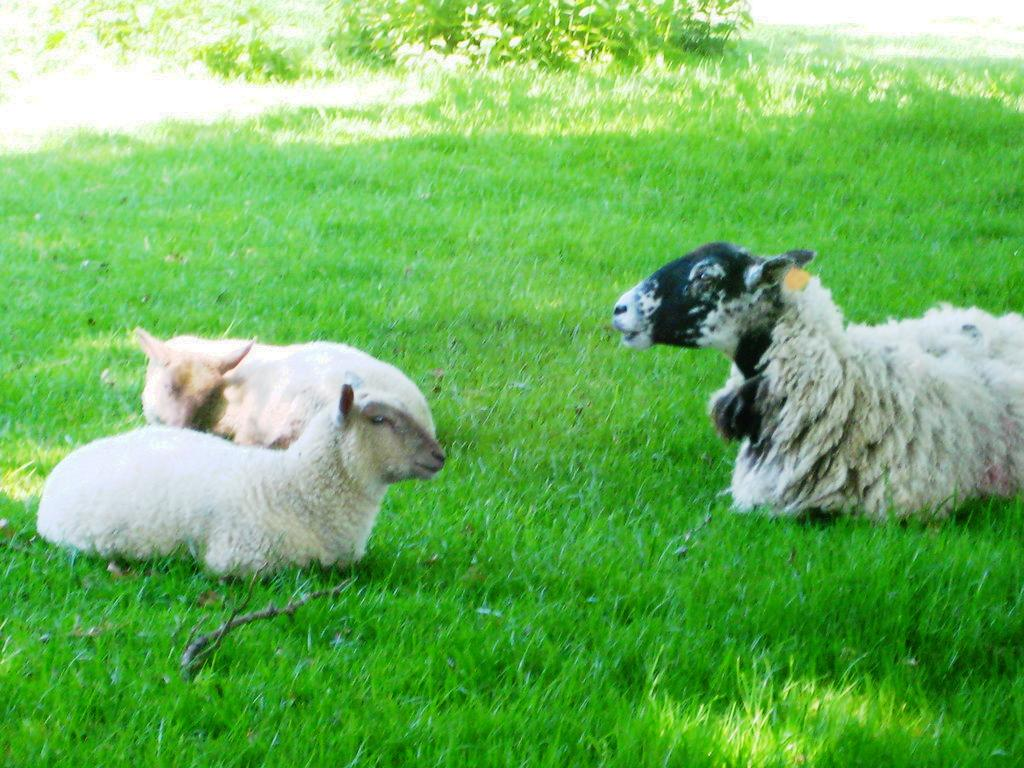Sheep: (610, 241, 1024, 528), (32, 369, 452, 581), (136, 325, 440, 452)
